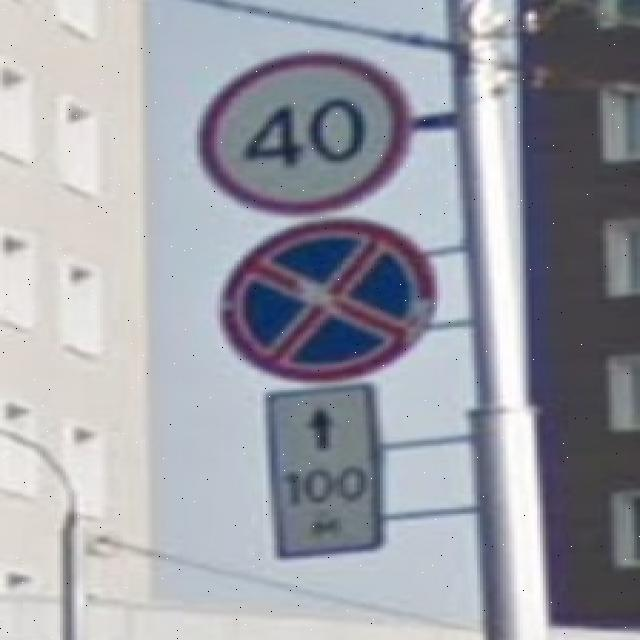speed limit 40: (197, 54, 409, 215)
